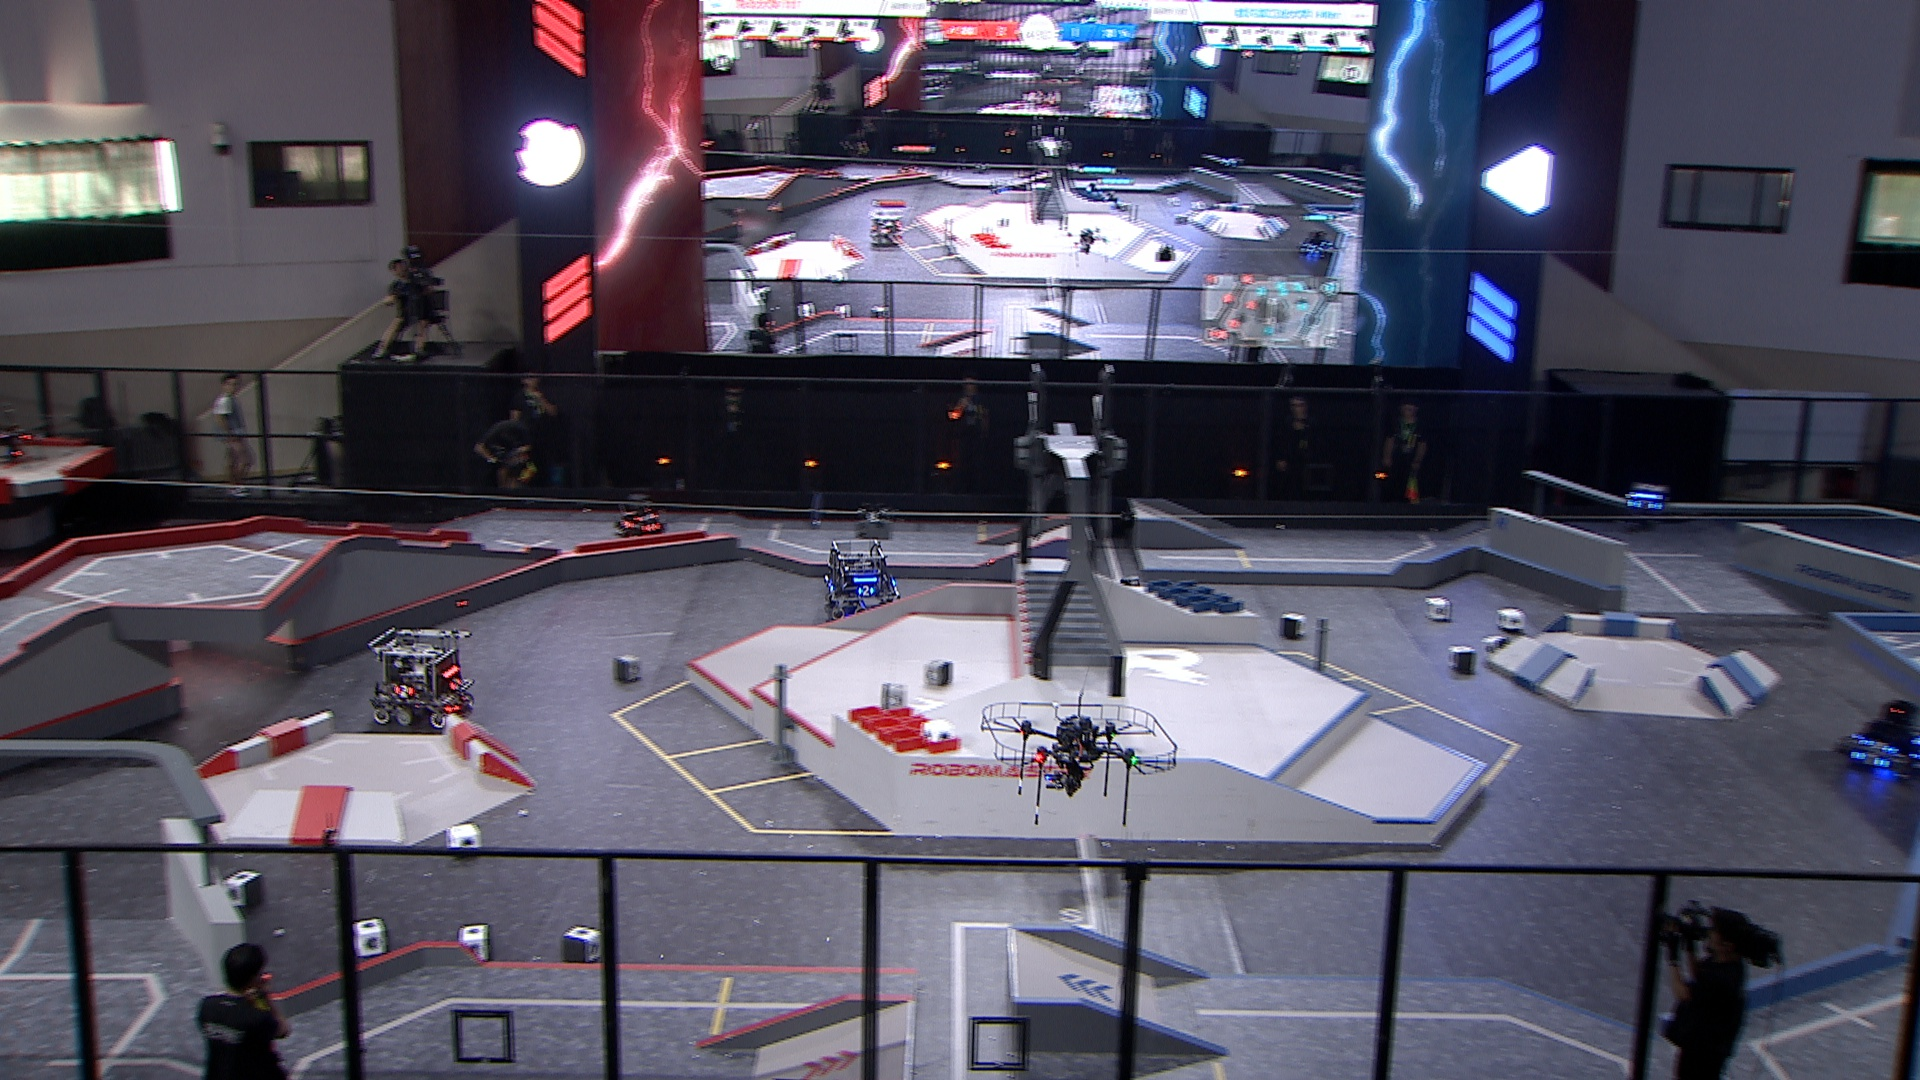armor: (1858, 752, 1888, 771), (1629, 496, 1662, 513), (1863, 736, 1892, 752), (633, 506, 655, 524), (390, 684, 414, 699), (615, 518, 636, 531), (645, 517, 659, 531), (855, 584, 874, 595), (448, 676, 462, 690)
car: (365, 622, 475, 732), (1840, 699, 1920, 787), (818, 541, 903, 618), (609, 491, 669, 543)
ignore: (864, 196, 911, 249), (1298, 225, 1333, 258), (1215, 153, 1240, 175), (1101, 189, 1121, 208)
watcher: (1619, 480, 1673, 534)
